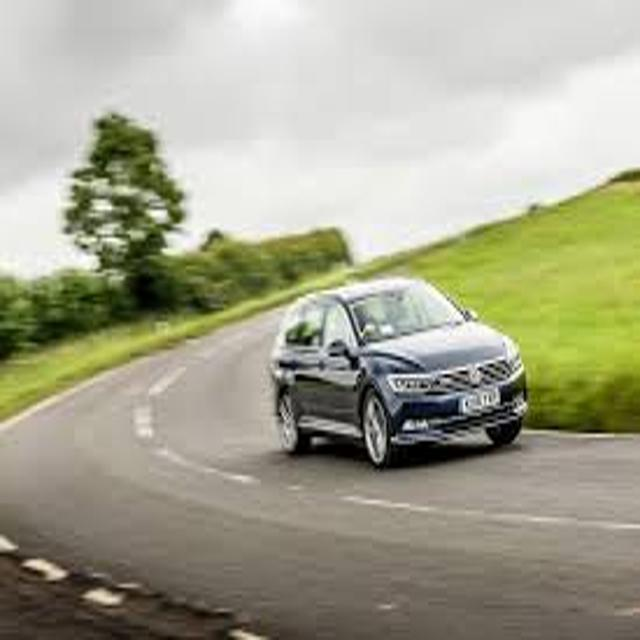car: (271, 279, 530, 468)
